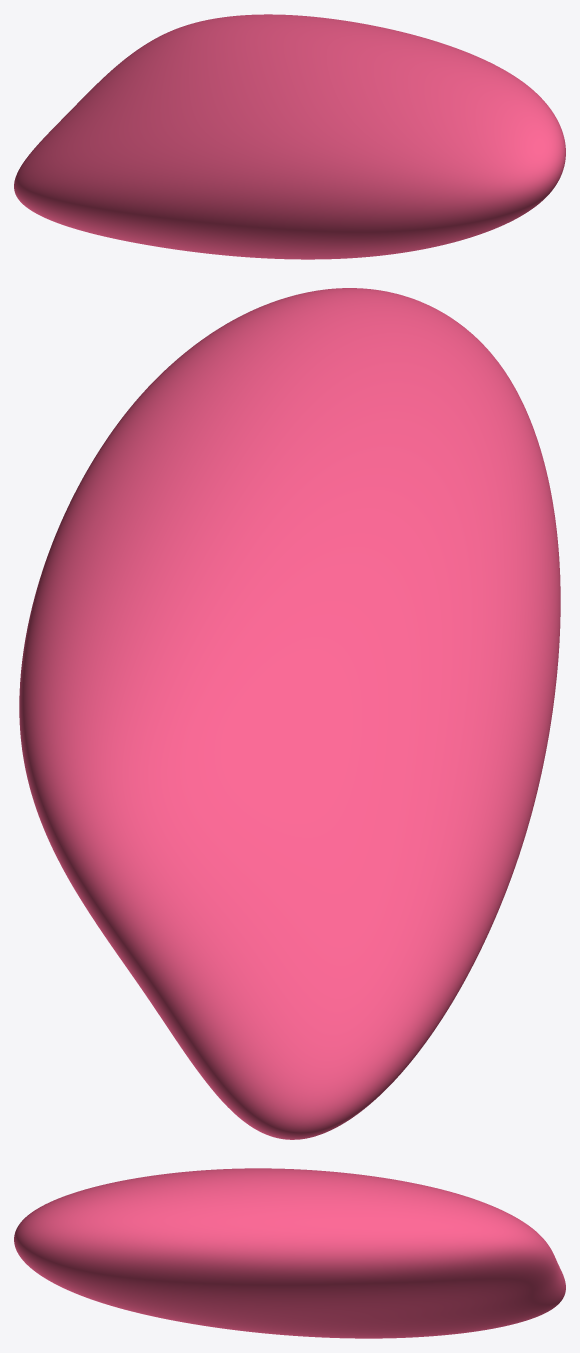
3 views of the same model, one above another, from view 1: azimuth 30°, elevation 25°; view 2: azimuth 150°, elevation 25°; view 3: azimuth 270°, elevation 25° (orthographic). The views are drawn at different scales.
Visible parts, largest first — view 1: RT_CF; view 2: RT_CF; view 3: RT_CF.
Boxes of the visible parts, left/top/right/bottom form: RT_CF: left=14, top=14, right=565, bottom=259; RT_CF: left=19, top=288, right=560, bottom=1139; RT_CF: left=14, top=1168, right=565, bottom=1338.
Bounding box in the file's own units: 3.52 × 2.55 × 5.9.
